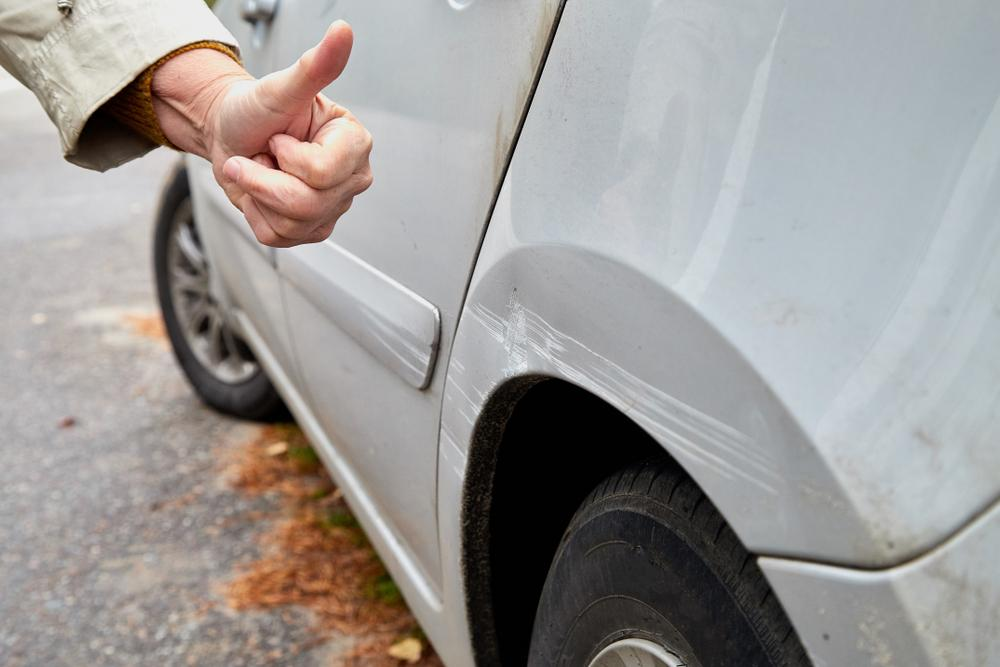scratch: (433, 299, 784, 496), (359, 304, 437, 382)
